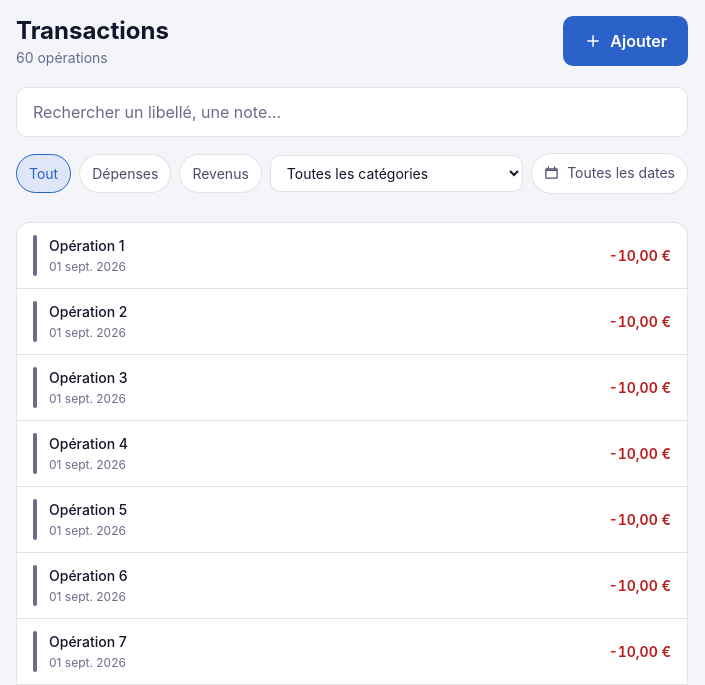
Test: TransactionsPage — recherche › cherche aussi dans les pages pas encore chargées, sans bouton « Charger plus »
Expected: the text "Opération 57" is not shown
Type "opération 57" into the search field with placeholder "Rechercher un libellé, une note…". click: (352, 112)
box: [16,86,688,136]
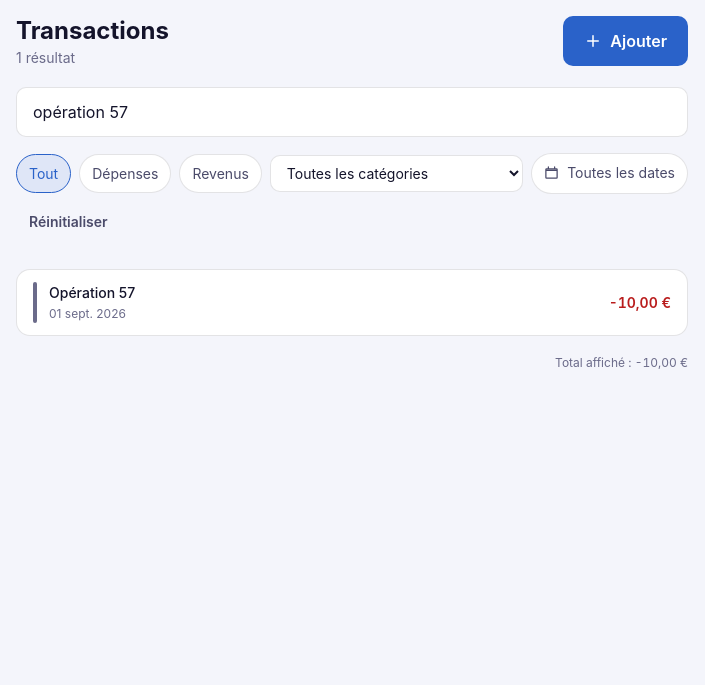
Expected: the text "Opération 57" is shown, [49,282,135,302]
